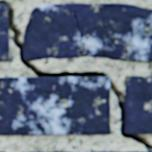brick: (23, 3, 151, 61), (0, 77, 108, 134), (124, 76, 151, 133), (0, 4, 8, 60), (24, 150, 146, 151)
crack: (0, 0, 151, 151), (76, 27, 83, 53), (85, 24, 95, 41), (73, 10, 76, 25)
